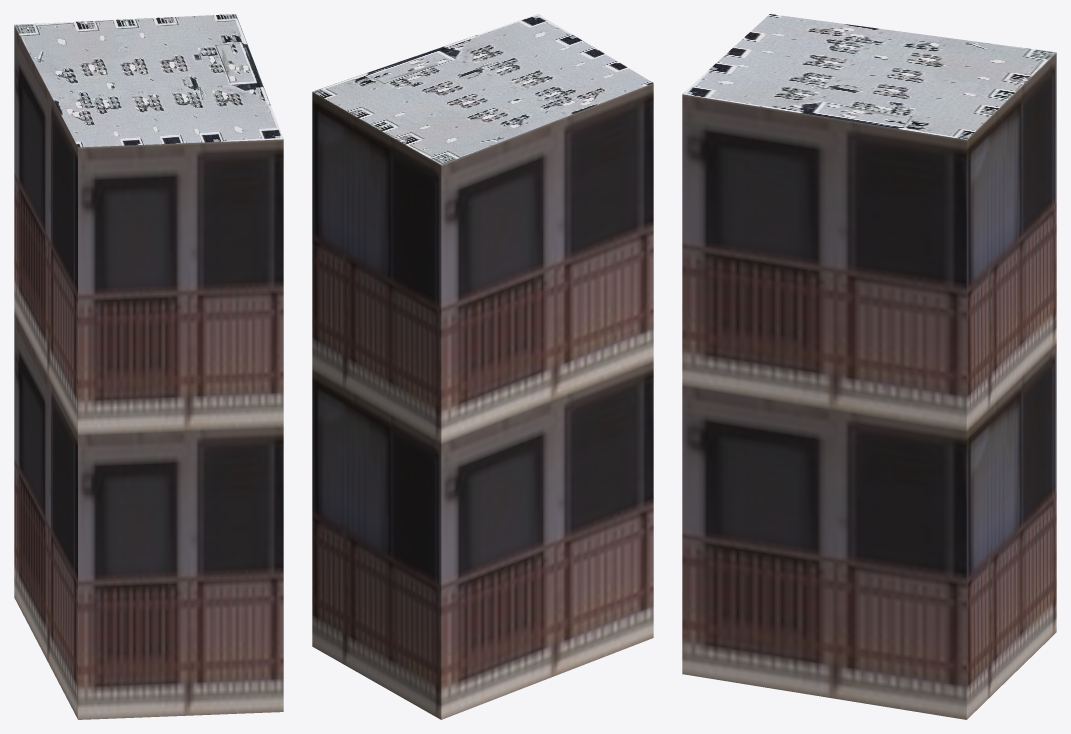
Rendered from ResTex__3019.fbx.
3 views of the same model, side by side, from view 1: azimuth 30°, elevation 25°; view 2: azimuth 150°, elevation 25°; view 3: azimuth 270°, elevation 25° (orthographic). The views are drawn at different scales.
Visible parts, largest first — view 1: CityEngineMaterial_6_m, CityEngineMaterial_4_m; view 2: CityEngineMaterial_6_m, CityEngineMaterial_4_m; view 3: CityEngineMaterial_6_m, CityEngineMaterial_4_m.
Part boxes in pixels (box(x1,y1,x2,y2)): CityEngineMaterial_6_m: box(14, 25, 283, 719); CityEngineMaterial_4_m: box(14, 14, 283, 147); CityEngineMaterial_6_m: box(312, 83, 653, 719); CityEngineMaterial_4_m: box(313, 14, 652, 164); CityEngineMaterial_6_m: box(682, 53, 1056, 719); CityEngineMaterial_4_m: box(682, 14, 1056, 139).
Bounding box in the file's own units: 2.8 × 6 × 3.51.
Materials: 2 (2 with a texture image).
